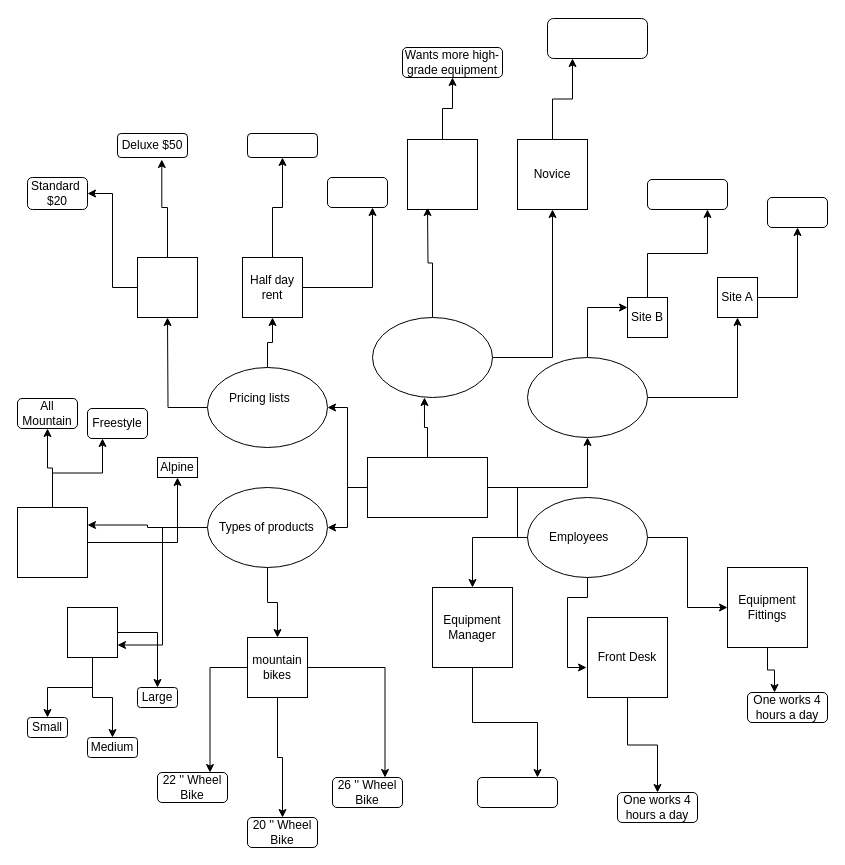
The diagram is 845 pixels wide and 865 high, and some of its shapes have lost their labels. Here are the shapes that lost their labels. From the top down, the centre of each, then its label:
the point at 597,38: Wants more casual/cheaper equipment
the point at 282,145: Deluxe $25
the point at 357,192: Standard $10
the point at 442,174: Experienced
the point at 687,194: Snow sports
the point at 797,212: Summer Sports
the point at 167,287: All day rent
the point at 432,357: Customers
the point at 587,397: Slopes
the point at 427,487: Ski shop
the point at 52,542: snowboard
the point at 92,632: gloves
the point at 517,792: One works 3 hours a day
